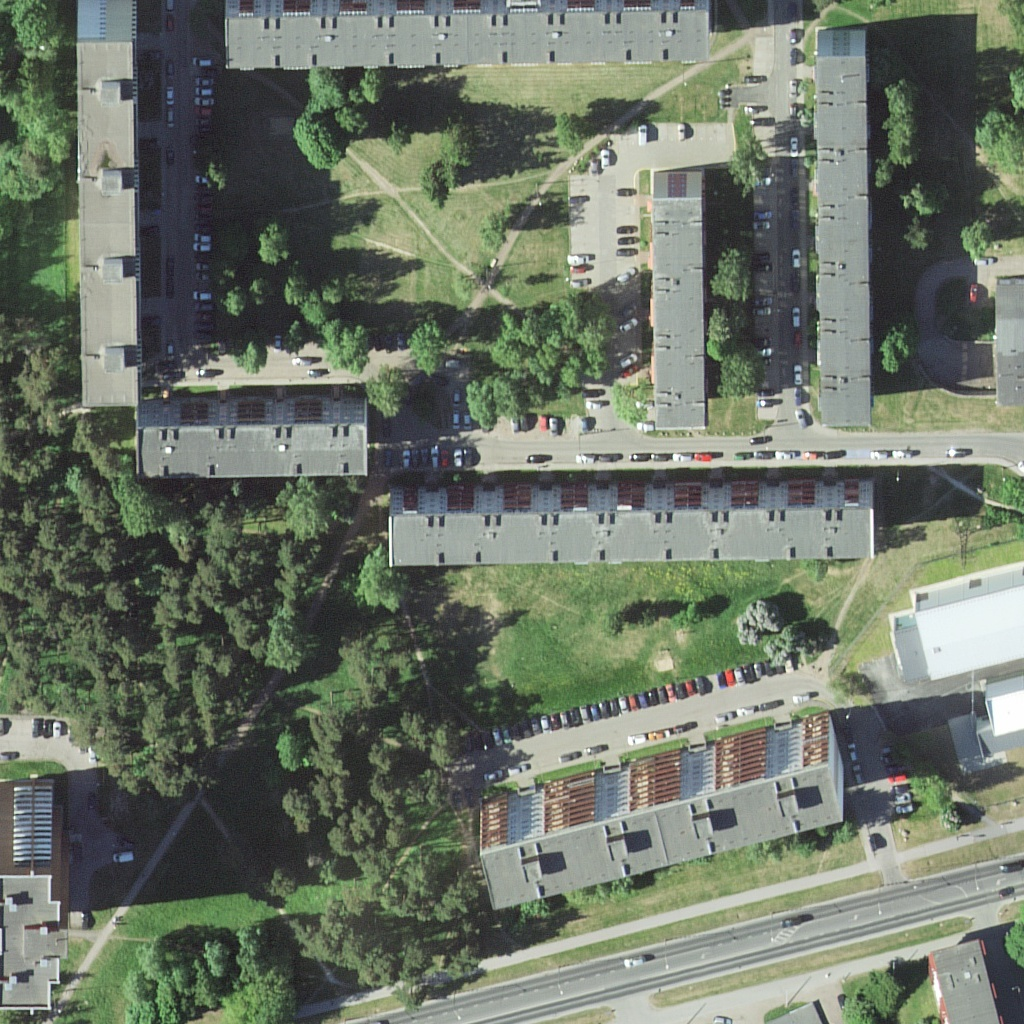building: (464, 718, 850, 911), (387, 479, 878, 564), (218, 1, 710, 77), (812, 28, 874, 433), (77, 1, 136, 409), (135, 396, 372, 479), (1, 775, 76, 1022), (650, 173, 711, 432), (905, 566, 1024, 688), (929, 937, 1001, 1024)
